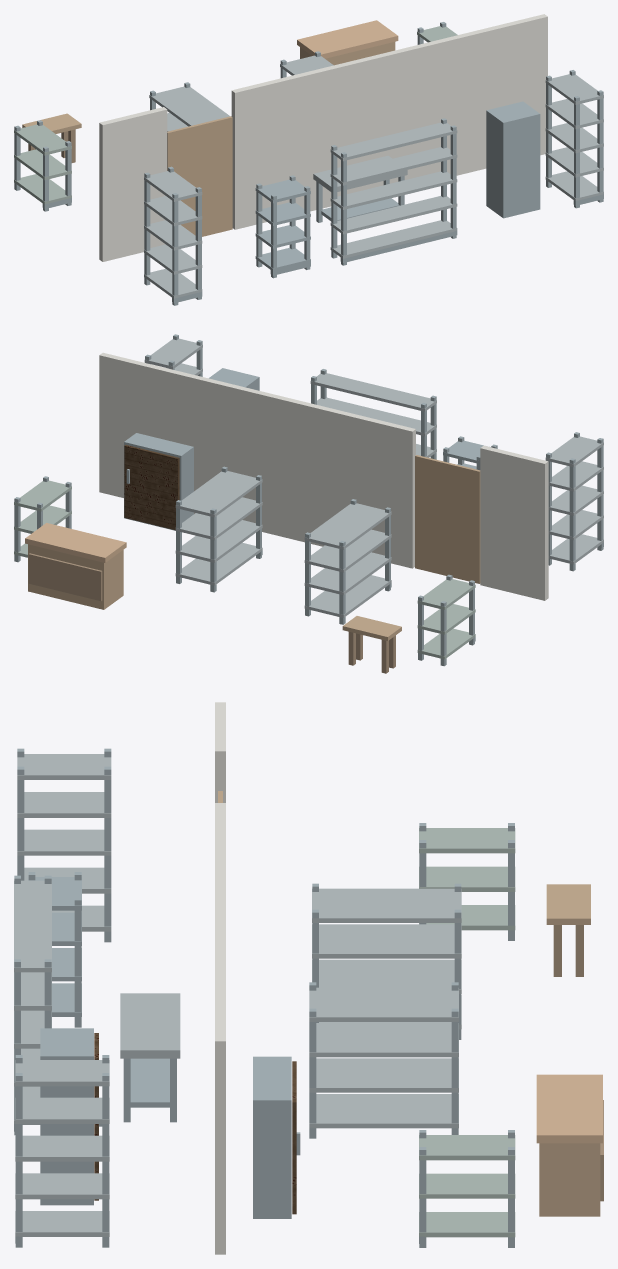
3 renders of one model, top to bottom at view 1: azimuth 30°, elevation 25°; view 2: azimuth 150°, elevation 25°; view 3: azimuth 270°, elevation 25°, orthographic. The views are drawn at different scales.
Visible parts, largest first — view 1: C03_DIVISORIA_L__Walls_Occludable, C03_DIVISORIA_O__Walls_Occludable, C03_12__corpo, C03_D02__FOLHA_ESTATICA_PIVO_PENDENTE, C03_05__tampo, C03_10__prateleira_04, C03_03__prateleira_03, C03_10__prateleira_03, C03_10__prateleira_02, C03_10__prateleira_01, C03_10__prateleira_00, C03_08__prateleira_04 (+35 smaller); view 2: C03_DIVISORIA_L__Walls_Occludable, C03_DIVISORIA_O__Walls_Occludable, C03_D02__FOLHA_ESTATICA_PIVO_PENDENTE, C03_06__porta, C03_05__corpo, C03_05__frente, C03_05__tampo, C03_04__prateleira_03, C03_03__prateleira_03, C03_06__corpo, C03_10__prateleira_04, C03_03__prateleira_02 (+24 smaller); view 3: C03_06__corpo, C03_04__prateleira_03, C03_03__prateleira_03, C03_DIVISORIA_L__Walls_Occludable, C03_03__prateleira_02, C03_04__prateleira_02, C03_04__prateleira_00, C03_04__prateleira_01, C03_05__tampo, C03_05__corpo, C03_12__corpo, C03_11__tampo (+36 smaller).
Boxes of the visible parts, x1=… form: C03_DIVISORIA_L__Walls_Occludable: x1=231, y1=14, x2=547, y2=229; C03_DIVISORIA_O__Walls_Occludable: x1=99, y1=107, x2=167, y2=261; C03_12__corpo: x1=486, y1=101, x2=540, y2=218; C03_D02__FOLHA_ESTATICA_PIVO_PENDENTE: x1=167, y1=116, x2=232, y2=236; C03_05__tampo: x1=297, y1=20, x2=398, y2=58; C03_10__prateleira_04: x1=330, y1=122, x2=457, y2=160; C03_03__prateleira_03: x1=149, y1=86, x2=229, y2=126; C03_10__prateleira_03: x1=330, y1=147, x2=457, y2=185; C03_10__prateleira_02: x1=330, y1=171, x2=457, y2=209; C03_10__prateleira_01: x1=330, y1=196, x2=457, y2=234; C03_10__prateleira_00: x1=330, y1=220, x2=457, y2=258; C03_08__prateleira_04: x1=144, y1=171, x2=202, y2=201; C03_DIVISORIA_L__Walls_Occludable: x1=99, y1=352, x2=415, y2=568; C03_DIVISORIA_O__Walls_Occludable: x1=480, y1=445, x2=548, y2=600; C03_D02__FOLHA_ESTATICA_PIVO_PENDENTE: x1=415, y1=455, x2=480, y2=583; C03_06__porta: x1=124, y1=444, x2=179, y2=530; C03_05__corpo: x1=28, y1=544, x2=123, y2=609; C03_05__frente: x1=28, y1=553, x2=102, y2=601; C03_05__tampo: x1=25, y1=523, x2=126, y2=562; C03_04__prateleira_03: x1=175, y1=471, x2=262, y2=517; C03_03__prateleira_03: x1=304, y1=503, x2=391, y2=549; C03_06__corpo: x1=124, y1=433, x2=193, y2=530; C03_10__prateleira_04: x1=310, y1=373, x2=436, y2=411; C03_03__prateleira_02: x1=304, y1=529, x2=391, y2=572; C03_06__corpo: x1=253, y1=1056, x2=291, y2=1218; C03_04__prateleira_03: x1=309, y1=987, x2=458, y2=1021; C03_03__prateleira_03: x1=312, y1=888, x2=461, y2=922; C03_DIVISORIA_L__Walls_Occludable: x1=215, y1=803, x2=225, y2=1254; C03_03__prateleira_02: x1=312, y1=924, x2=461, y2=958; C03_04__prateleira_02: x1=309, y1=1023, x2=458, y2=1057; C03_04__prateleira_00: x1=309, y1=1094, x2=458, y2=1128; C03_04__prateleira_01: x1=309, y1=1058, x2=458, y2=1092; C03_05__tampo: x1=536, y1=1074, x2=602, y2=1143; C03_05__corpo: x1=539, y1=1143, x2=600, y2=1216; C03_12__corpo: x1=40, y1=1028, x2=93, y2=1205; C03_11__tampo: x1=120, y1=993, x2=180, y2=1058.
Bounding box in the file's own units: 8.68 × 2.55 × 6.39.
8 materials, 1 textured.
